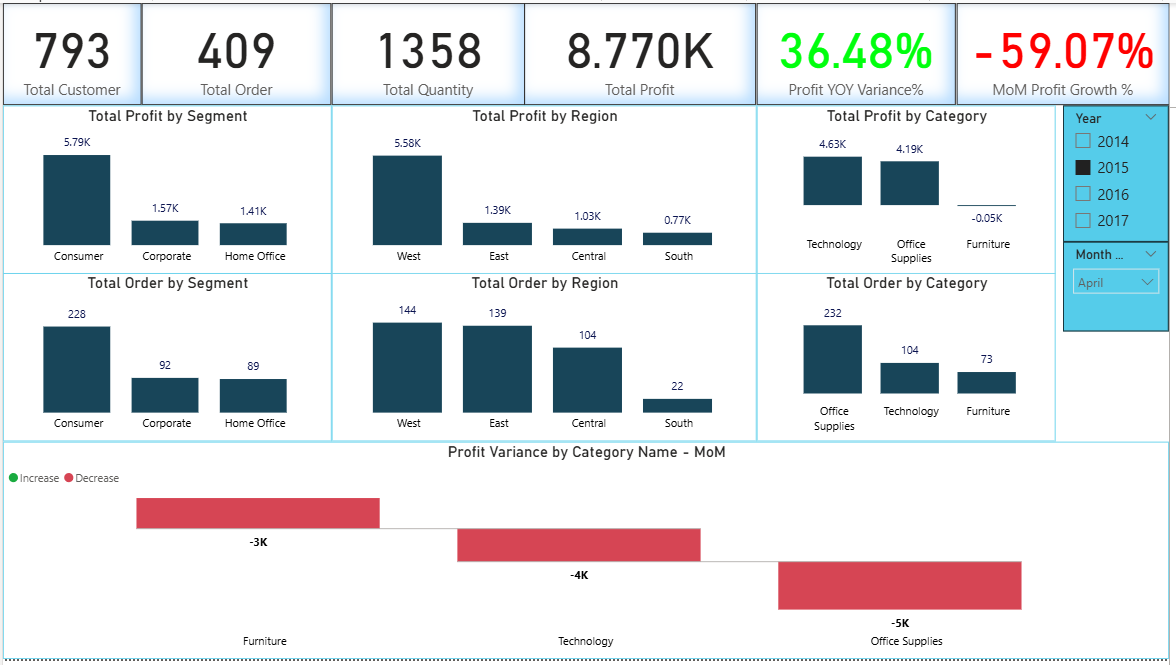

This screenshot's page, from the dashboard's own definition file:
{"tool":"powerbi","page":{"name":"Page 1","canvas":[1280,720],"ordinal":0},"visuals":[{"type":"card","fields":{"Values":["Mesure.Total Customer"]},"box":[0,0,152.2,112.3],"z":0},{"type":"card","fields":{"Values":["Mesure.Total Order"]},"box":[152.2,0,208.4,112.3],"z":1000},{"type":"card","fields":{"Values":["Mesure.Total Quantity"]},"box":[360.6,0,212.1,112.3],"z":2000},{"type":"card","fields":{"Values":["Mesure.Total Profit"]},"box":[572.7,0,254.6,112.3],"z":3000},{"type":"card","fields":{"Values":["Mesure.Profit Variance%"]},"box":[827.3,0,218.4,112.3],"z":4000},{"type":"card","fields":{"Values":["Mesure.MoM Profit Growth %"]},"box":[1046.9,0,233.3,112.3],"z":5000},{"type":"slicer","fields":{"Values":["Calendar.Year"]},"box":[1164.2,112.3,116,149.7],"z":6000},{"type":"slicer","fields":{"Values":["Calendar.Month Name"]},"box":[1164.2,262,116,98.6],"z":7000},{"type":"waterfallChart","title":"Profit Variance by Category Name - MoM","fields":{"Category":["productDim.CATEGORY"],"Y":["Mesure.MOM Profit Variance"]},"box":[0,481.7,1280.3,238.3],"z":8000},{"type":"columnChart","title":"Total Profit by Region","fields":{"Category":["geographyDim.REGION"],"Y":["Mesure.Total Profit"]},"box":[360.6,112.3,466.7,184.7],"z":9000},{"type":"columnChart","title":"Total Order by Region","fields":{"Category":["geographyDim.REGION"],"Y":["Mesure.Total Order"]},"box":[360.6,297,466.7,184.7],"z":10000},{"type":"columnChart","title":"Total Order by Segment","fields":{"Category":["customerDim.SEGMENT"],"Y":["Mesure.Total Order"]},"box":[0,297,360.6,184.7],"z":11000},{"type":"columnChart","title":"Total Profit by Segment","fields":{"Category":["customerDim.SEGMENT"],"Y":["Mesure.Total Profit"]},"box":[0,112.3,360.6,184.7],"z":12000},{"type":"columnChart","title":"Total Profit by Category","fields":{"Y":["Mesure.Total Profit"],"Category":["productDim.CATEGORY"]},"box":[827.3,112.3,328.2,184.7],"z":13000},{"type":"columnChart","title":"Total Order by Category","fields":{"Category":["productDim.CATEGORY"],"Y":["Mesure.Total Order"]},"box":[827.3,297,328.2,184.7],"z":14000}]}

Visuals, with their boxes in screenshot pixels (x1, y1, x2, y2), scaled from the page's 1280x720 canvas onto the 1176x665 screenshot:
card - Mesure.Total Customer: bbox(0, 0, 140, 104)
card - Mesure.Total Order: bbox(140, 0, 331, 104)
card - Mesure.Total Quantity: bbox(331, 0, 526, 104)
card - Mesure.Total Profit: bbox(526, 0, 760, 104)
card - Mesure.Profit Variance%: bbox(760, 0, 961, 104)
card - Mesure.MoM Profit Growth %: bbox(962, 0, 1175, 104)
slicer - Calendar.Year: bbox(1070, 104, 1175, 242)
slicer - Calendar.Month Name: bbox(1070, 242, 1175, 333)
"Profit Variance by Category Name - MoM" waterfallChart: bbox(0, 445, 1175, 664)
"Total Profit by Region" columnChart: bbox(331, 104, 760, 274)
"Total Order by Region" columnChart: bbox(331, 274, 760, 445)
"Total Order by Segment" columnChart: bbox(0, 274, 331, 445)
"Total Profit by Segment" columnChart: bbox(0, 104, 331, 274)
"Total Profit by Category" columnChart: bbox(760, 104, 1062, 274)
"Total Order by Category" columnChart: bbox(760, 274, 1062, 445)
